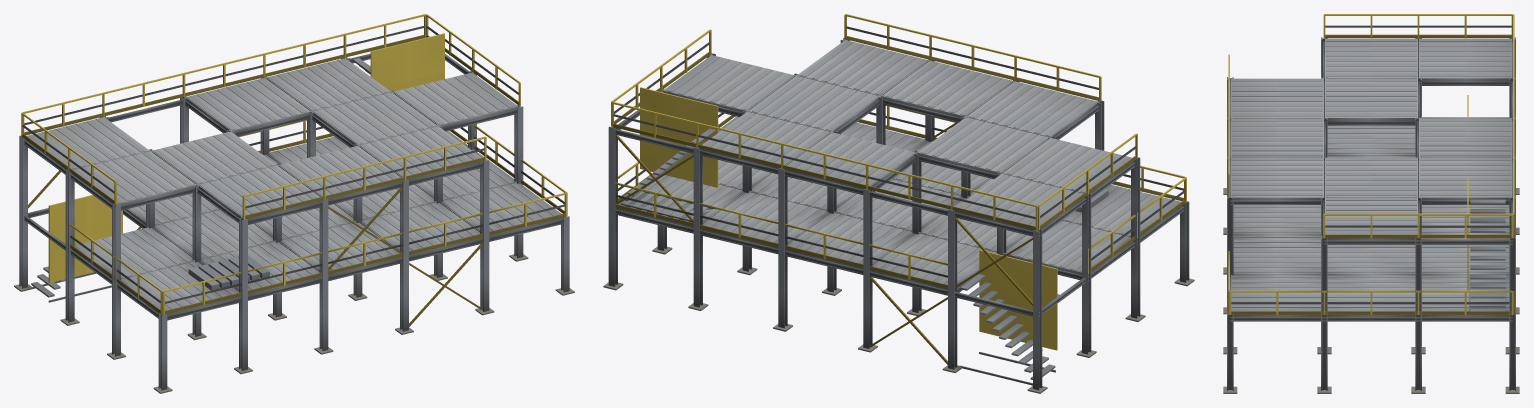
Rendered from frame.glb.
3 views of the same model, side by side, from view 1: azimuth 30°, elevation 25°; view 2: azimuth 150°, elevation 25°; view 3: azimuth 270°, elevation 25° (orthographic). The views are drawn at different scales.
Parts seen in each view (by area): view 1: frame; view 2: frame; view 3: frame.
Boxes of the visible parts, box(x1,y1,x2,y2) form: frame: box(14, 14, 574, 393); frame: box(603, 14, 1194, 393); frame: box(1223, 14, 1519, 393).
Bounding box in the file's own units: 20.6 × 8.32 × 12.6.
